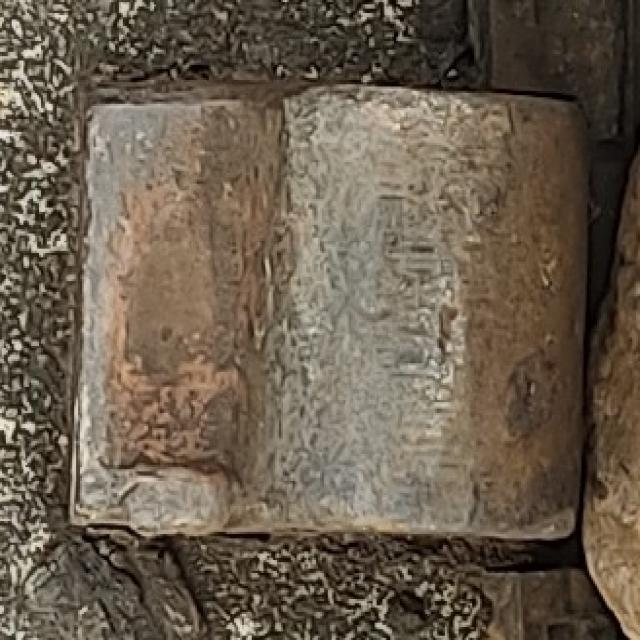track_bolt_missing: (264, 77, 598, 547)
